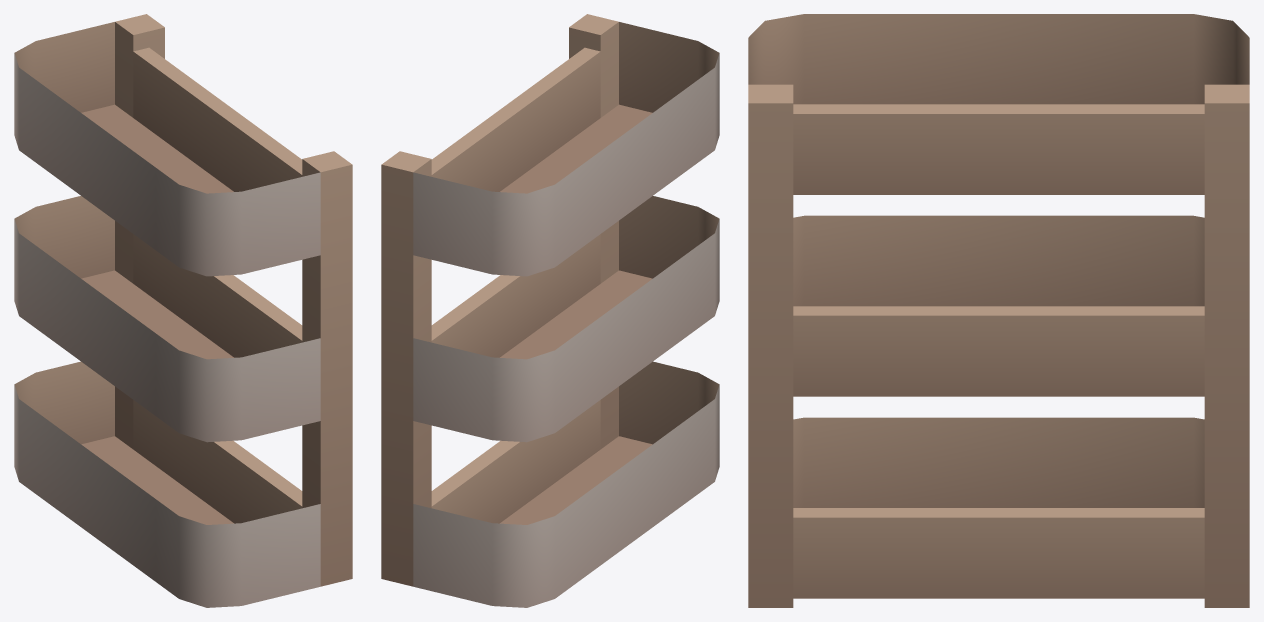
Rendered from spice-rack-empty (%wall).glb.
3 renders of one model, left to right at view 1: azimuth 30°, elevation 25°; view 2: azimuth 150°, elevation 25°; view 3: azimuth 270°, elevation 25°, orthographic. The views are drawn at different scales.
Visible parts, largest first — view 1: spice-rack-empty (%wall); view 2: spice-rack-empty (%wall); view 3: spice-rack-empty (%wall).
Part boxes in pixels (x1,y1,x2,y2): spice-rack-empty (%wall): (14, 14, 352, 607); spice-rack-empty (%wall): (381, 14, 719, 607); spice-rack-empty (%wall): (748, 14, 1249, 607).
Size of the model in its own units: 0.1902 by 0.5 by 0.45.
